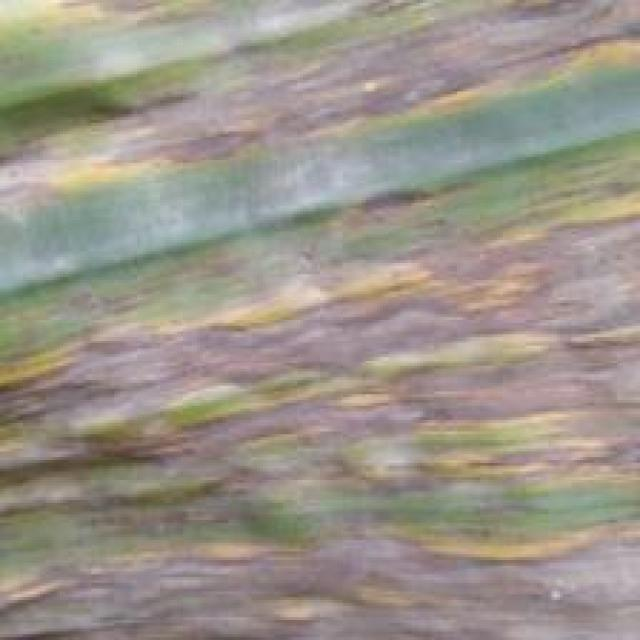Early_leaf_spot: (3, 0, 637, 629)
